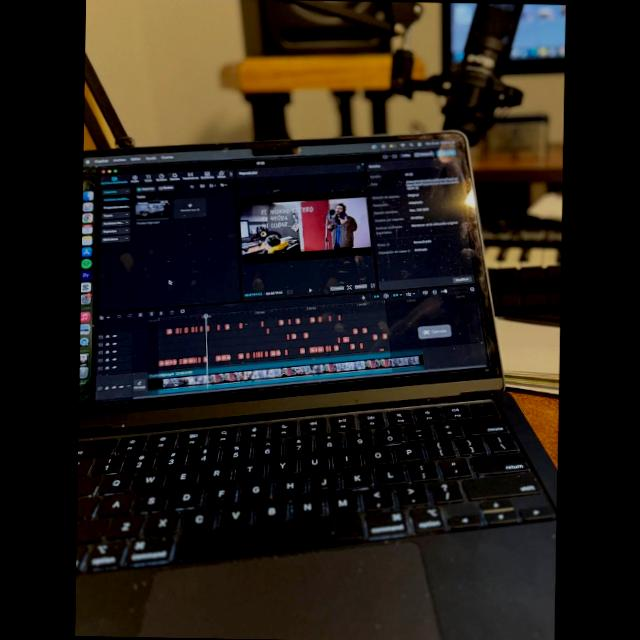laptop: (82, 140, 563, 640)
